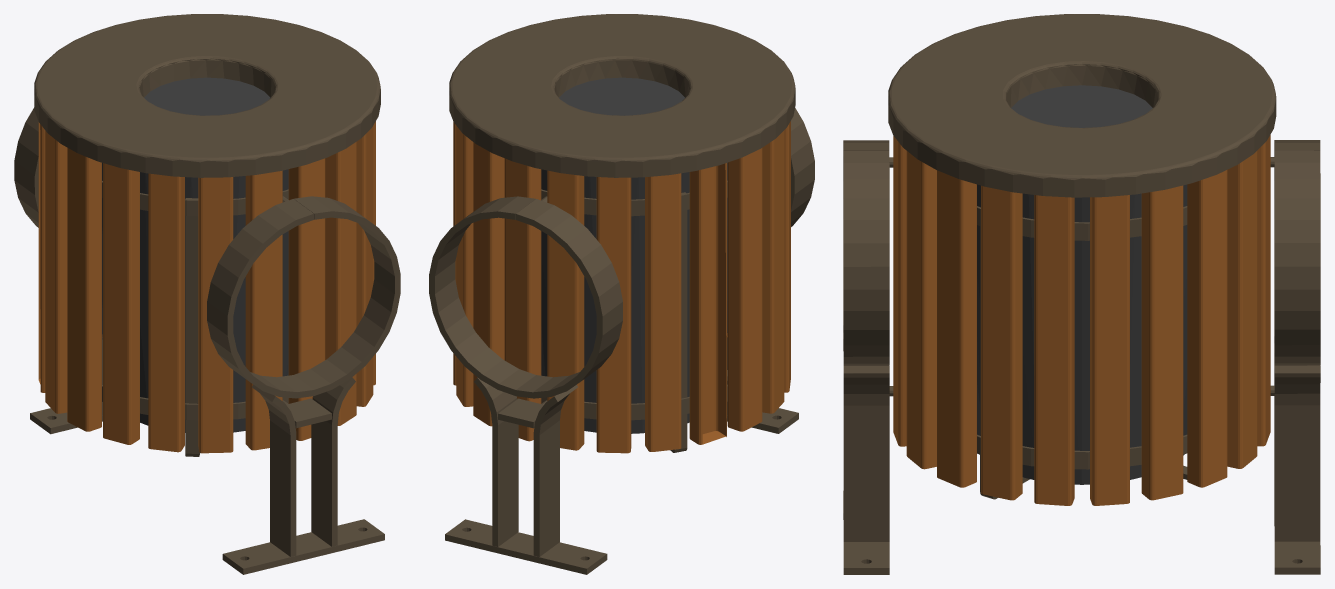
3 renders of one model, left to right at view 1: azimuth 30°, elevation 25°; view 2: azimuth 150°, elevation 25°; view 3: azimuth 270°, elevation 25°, orthographic. The views are drawn at different scales.
Visible parts, largest first — view 1: mesh27.002_mesh27-geometry, mesh5.003_mesh5-geometry, mesh1.028_mesh1-geometry, mesh1.029_mesh1-geometry, mesh1.030_mesh1-geometry, mesh42.002_mesh42-geometry, mesh1.026_mesh1-geometry, mesh1.027_mesh1-geometry, mesh1.025_mesh1-geometry, mesh1.024_mesh1-geometry, mesh1.031_mesh1-geometry, mesh3.003_mesh3-geometry (+10 smaller); view 2: mesh27.002_mesh27-geometry, mesh5.004_mesh5-geometry, mesh42.002_mesh42-geometry, mesh1.032_mesh1-geometry, mesh1.033_mesh1-geometry, mesh1.031_mesh1-geometry, mesh1.035_mesh1-geometry, mesh1.034_mesh1-geometry, mesh1.036_mesh1-geometry, mesh1.037_mesh1-geometry, mesh1.030_mesh1-geometry, mesh4.004_mesh4-geometry (+11 smaller); view 3: mesh27.002_mesh27-geometry, mesh42.002_mesh42-geometry, mesh1.039_mesh1-geometry, mesh1.022_mesh1-geometry, mesh1.021_mesh1-geometry, mesh1.038_mesh1-geometry, mesh1.040_mesh1-geometry, mesh1.023_mesh1-geometry, mesh5.004_mesh5-geometry, mesh5.003_mesh5-geometry, mesh1.024_mesh1-geometry, mesh1.037_mesh1-geometry (+8 smaller).
Boxes of the visible parts, left/top/right/bottom form: mesh27.002_mesh27-geometry: left=34, top=14, right=380, bottom=177; mesh5.003_mesh5-geometry: left=207, top=196, right=400, bottom=398; mesh1.028_mesh1-geometry: left=148, top=173, right=184, bottom=452; mesh1.029_mesh1-geometry: left=103, top=163, right=139, bottom=444; mesh1.030_mesh1-geometry: left=67, top=148, right=101, bottom=431; mesh42.002_mesh42-geometry: left=102, top=77, right=288, bottom=432; mesh1.026_mesh1-geometry: left=245, top=170, right=282, bottom=450; mesh1.027_mesh1-geometry: left=198, top=177, right=233, bottom=453; mesh1.025_mesh1-geometry: left=288, top=158, right=325, bottom=440; mesh1.024_mesh1-geometry: left=325, top=142, right=356, bottom=425; mesh1.031_mesh1-geometry: left=45, top=131, right=67, bottom=413; mesh3.003_mesh3-geometry: left=252, top=384, right=296, bottom=556; mesh27.002_mesh27-geometry: left=449, top=14, right=795, bottom=177; mesh5.004_mesh5-geometry: left=429, top=196, right=622, bottom=398; mesh42.002_mesh42-geometry: left=541, top=77, right=727, bottom=433; mesh1.032_mesh1-geometry: left=689, top=163, right=726, bottom=444; mesh1.033_mesh1-geometry: left=645, top=173, right=681, bottom=451; mesh1.031_mesh1-geometry: left=727, top=148, right=762, bottom=431; mesh1.035_mesh1-geometry: left=547, top=170, right=584, bottom=450; mesh1.034_mesh1-geometry: left=596, top=177, right=631, bottom=453; mesh1.036_mesh1-geometry: left=504, top=158, right=541, bottom=441; mesh1.037_mesh1-geometry: left=473, top=142, right=504, bottom=426; mesh1.030_mesh1-geometry: left=762, top=130, right=784, bottom=413; mesh4.004_mesh4-geometry: left=533, top=384, right=577, bottom=556; mesh27.002_mesh27-geometry: left=888, top=14, right=1276, bottom=197; mesh42.002_mesh42-geometry: left=977, top=85, right=1187, bottom=484; mesh1.039_mesh1-geometry: left=1141, top=185, right=1183, bottom=500; mesh1.022_mesh1-geometry: left=981, top=185, right=1022, bottom=500; mesh1.021_mesh1-geometry: left=1034, top=195, right=1074, bottom=505; mesh1.038_mesh1-geometry: left=1187, top=170, right=1227, bottom=487; mesh1.040_mesh1-geometry: left=1090, top=195, right=1129, bottom=505; mesh1.023_mesh1-geometry: left=937, top=170, right=976, bottom=487; mesh5.004_mesh5-geometry: left=1274, top=140, right=1320, bottom=365; mesh5.003_mesh5-geometry: left=843, top=140, right=889, bottom=365; mesh1.024_mesh1-geometry: left=906, top=151, right=936, bottom=469; mesh1.037_mesh1-geometry: left=1227, top=151, right=1257, bottom=468.
Size of the model in its own units: 0.4951 by 0.6205 by 0.6082.
